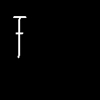double_crochet: (14, 16, 25, 57)
